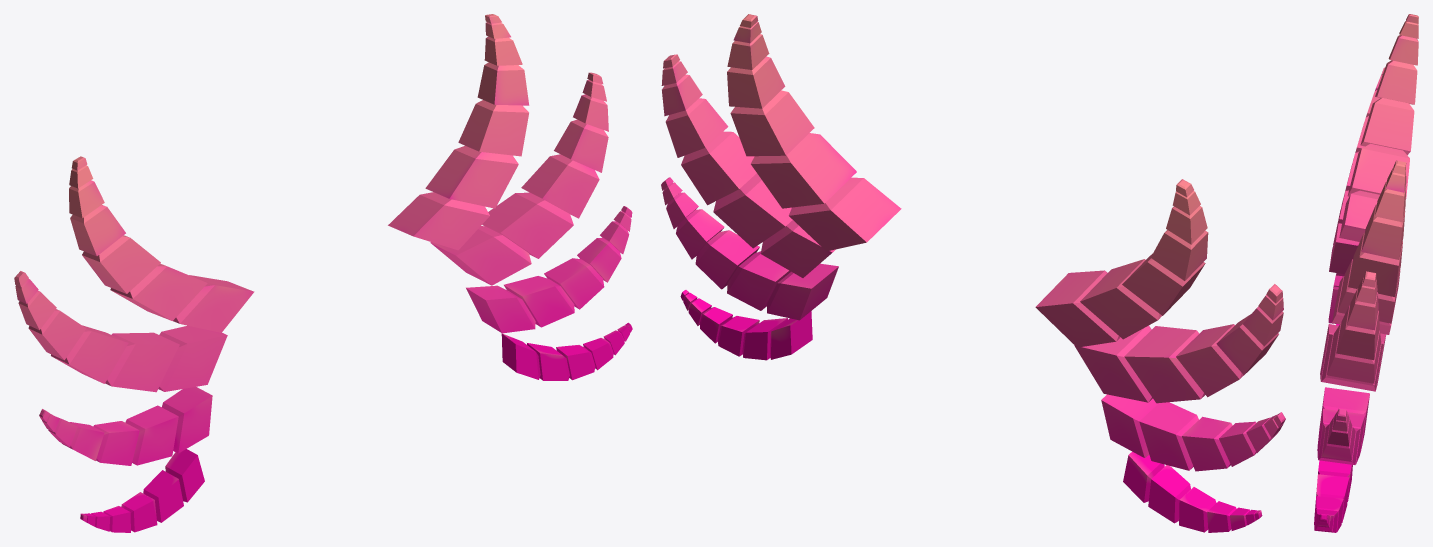
File: Branquias_1.glb
The picture shows the model from 3 angles, left to right: view 1: azimuth 30°, elevation 25°; view 2: azimuth 150°, elevation 25°; view 3: azimuth 270°, elevation 25°; orthographic projection. The views are drawn at different scales.
Parts seen in each view (by area): view 1: CUBO BRANQUIAS; view 2: CUBO BRANQUIAS; view 3: CUBO BRANQUIAS.
Part boxes in pixels (<box>): CUBO BRANQUIAS: <box>14,14,632,532</box>; CUBO BRANQUIAS: <box>661,14,1285,532</box>; CUBO BRANQUIAS: <box>1314,14,1418,532</box>.
Bounding box in the file's own units: 2.55 × 1.64 × 0.3929.
1 material, 1 textured.
